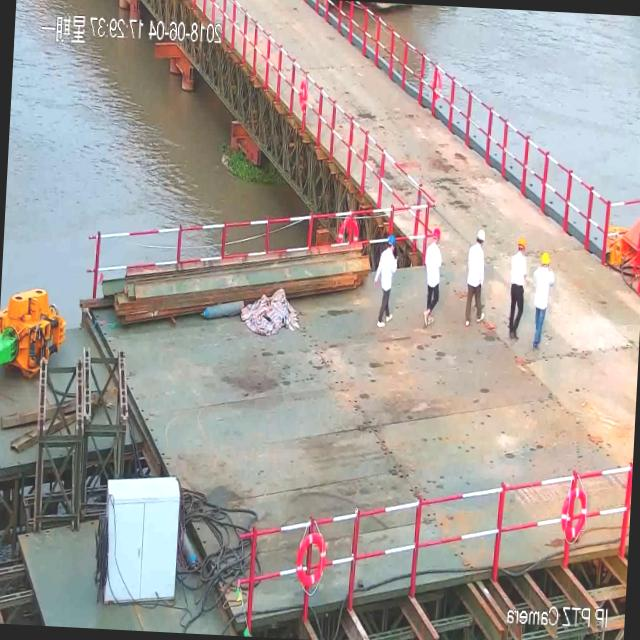helmet: (538, 245, 554, 272), (514, 230, 530, 256), (474, 228, 491, 248), (428, 226, 443, 248), (383, 230, 398, 252)
no-vest: (376, 246, 398, 297), (463, 246, 487, 292), (425, 242, 444, 296), (530, 268, 552, 314), (509, 254, 526, 293)
